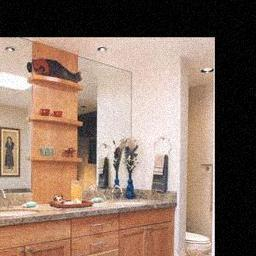Lavamanos: (0, 187, 47, 220), (94, 184, 147, 208)
Sanitario: (188, 229, 211, 256)
